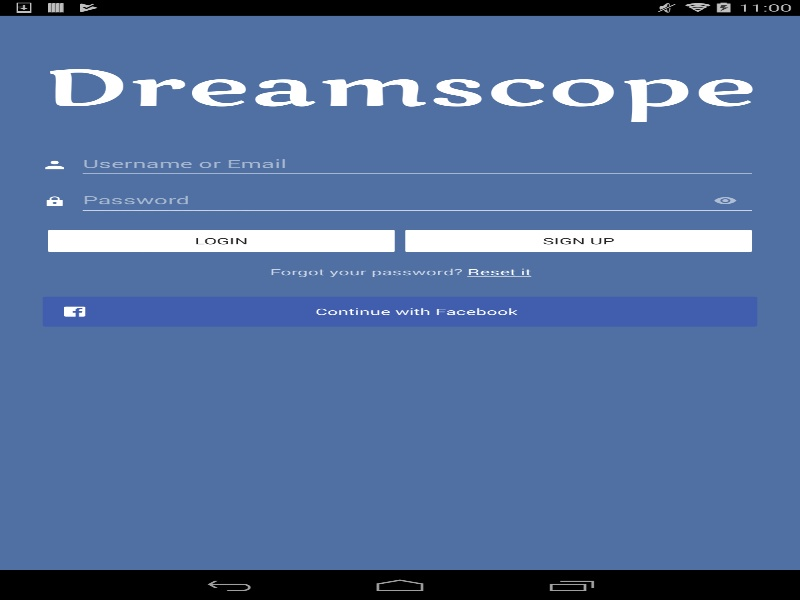Button: (42, 296, 757, 326), (42, 225, 400, 255), (400, 225, 757, 255), (693, 185, 757, 215)
Input: (77, 185, 757, 215), (77, 150, 757, 179)
